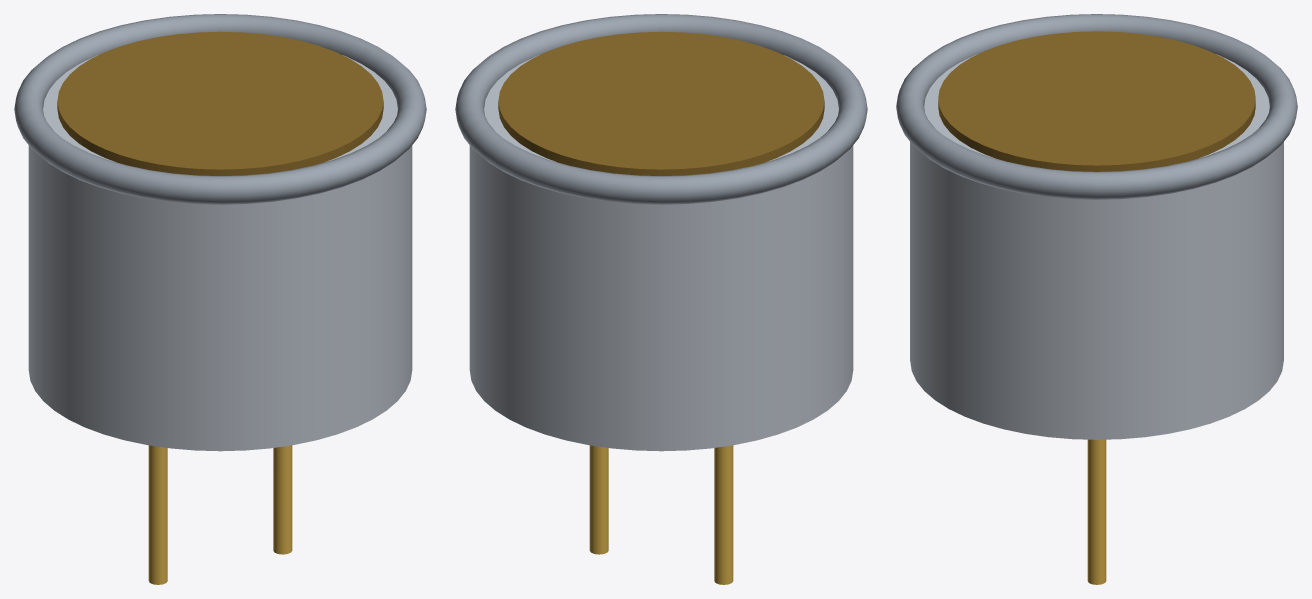
File: receiver.glb
The picture shows the model from 3 angles, left to right: view 1: azimuth 30°, elevation 25°; view 2: azimuth 150°, elevation 25°; view 3: azimuth 270°, elevation 25°; orthographic projection. The views are drawn at different scales.
Size of the model in its own units: 0.172 by 0.216 by 0.172.
